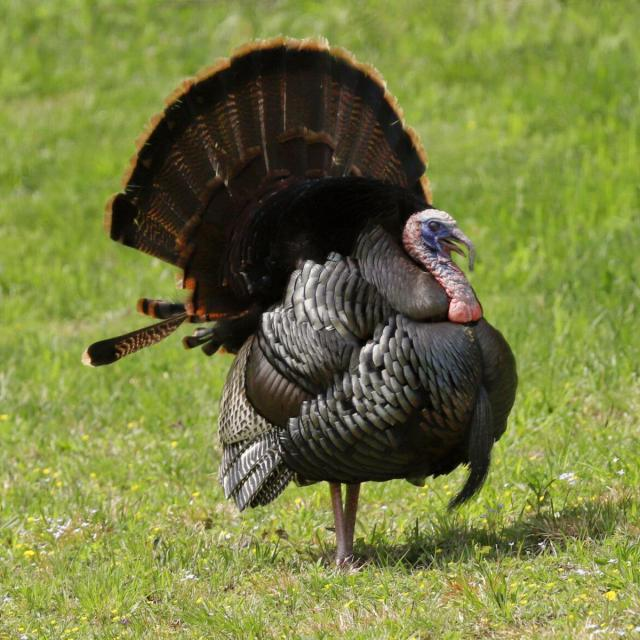Turkey: (84, 32, 523, 578)
